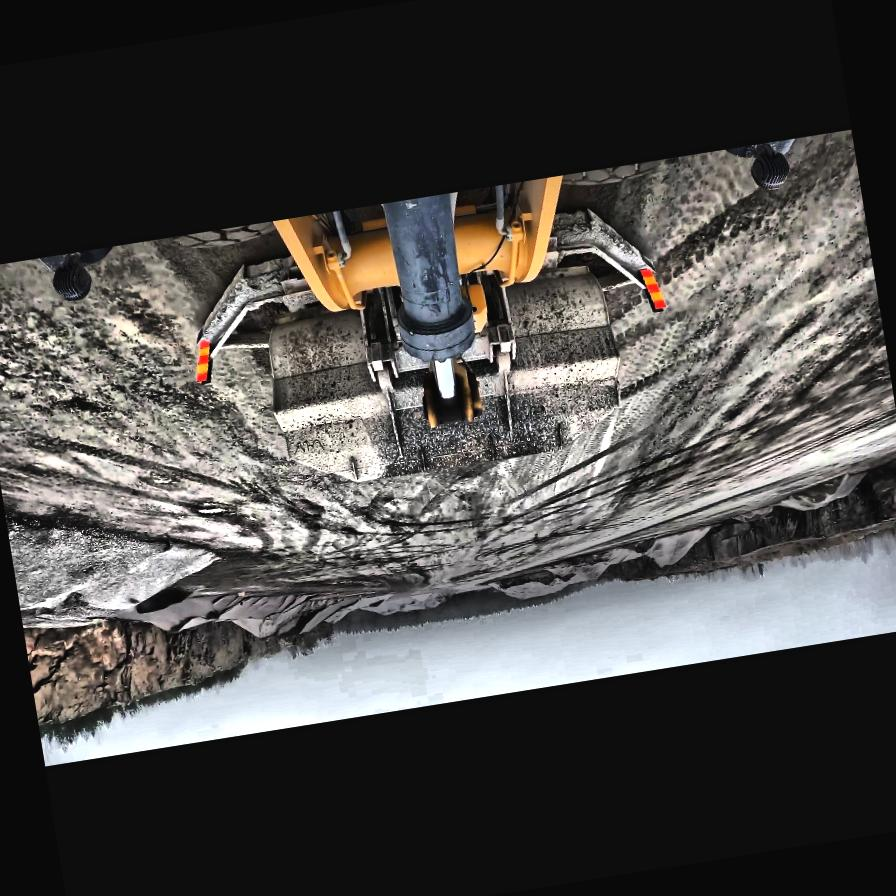anchor: (416, 359, 481, 431)
pile of gravel: (6, 485, 229, 631), (233, 590, 365, 646), (117, 588, 239, 642), (204, 584, 323, 632), (771, 472, 872, 516), (634, 526, 717, 571), (354, 585, 454, 621), (486, 568, 575, 606), (230, 612, 286, 643), (581, 544, 641, 572)
